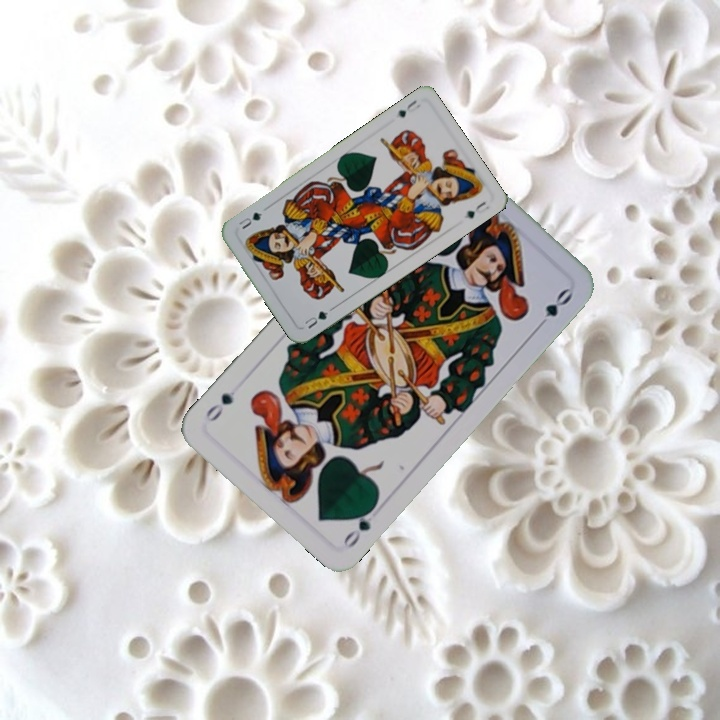GO: (338, 499, 380, 552)
GU: (300, 307, 331, 332), (393, 95, 423, 120)
